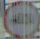Heavy Vehicles: (3, 1, 39, 37)
